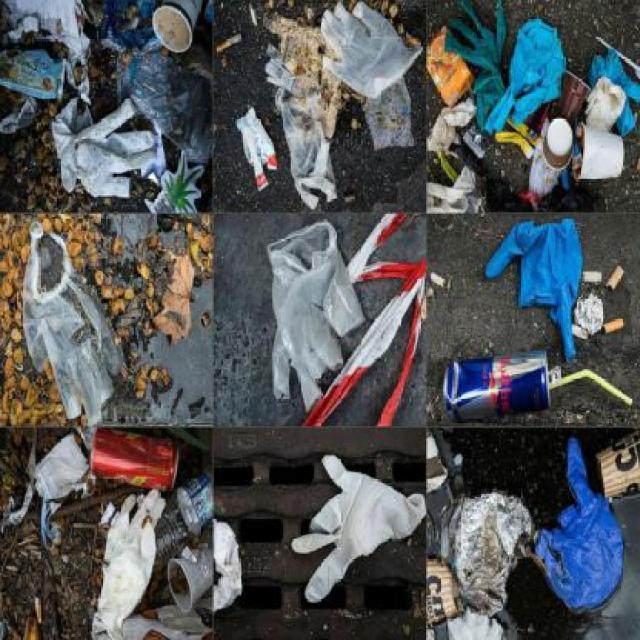gloved_hand: (292, 441, 426, 610), (266, 208, 362, 404), (538, 424, 626, 624), (22, 231, 115, 418), (481, 214, 584, 360), (53, 91, 159, 200), (89, 492, 166, 634), (318, 1, 417, 90), (489, 18, 563, 134), (276, 55, 332, 208), (446, 0, 508, 120), (610, 39, 636, 132)
